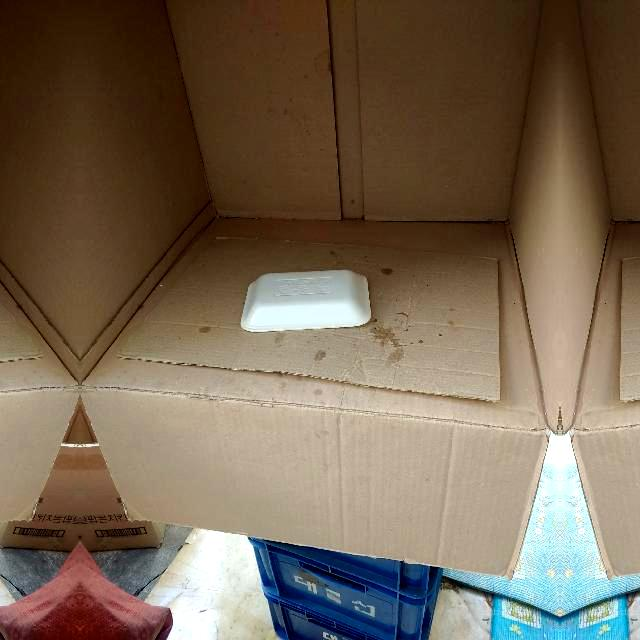Styrofoam: (240, 268, 376, 332), (240, 270, 371, 332)
